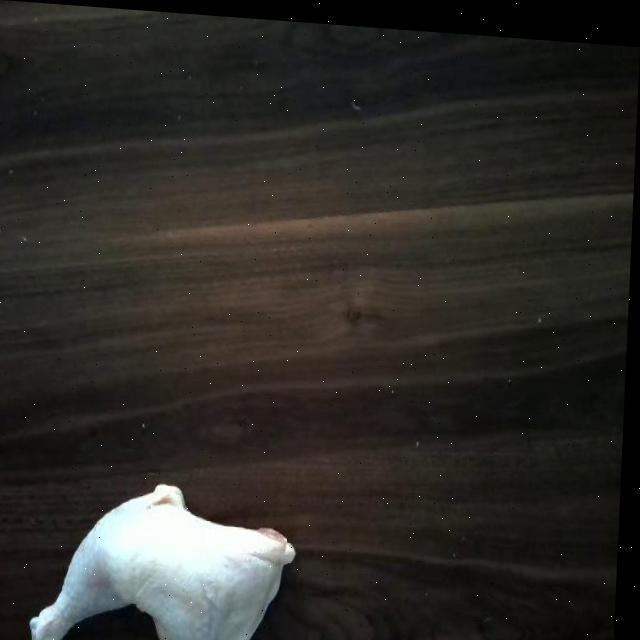quater: (24, 476, 303, 640)
